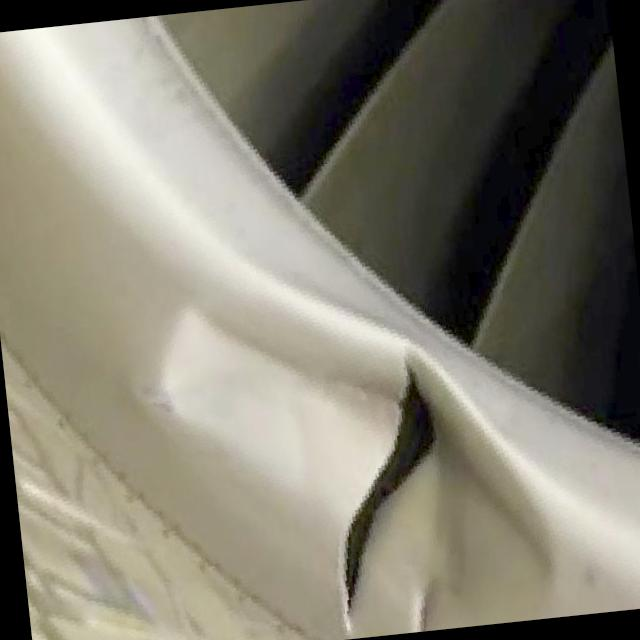crack: (300, 348, 466, 639)
